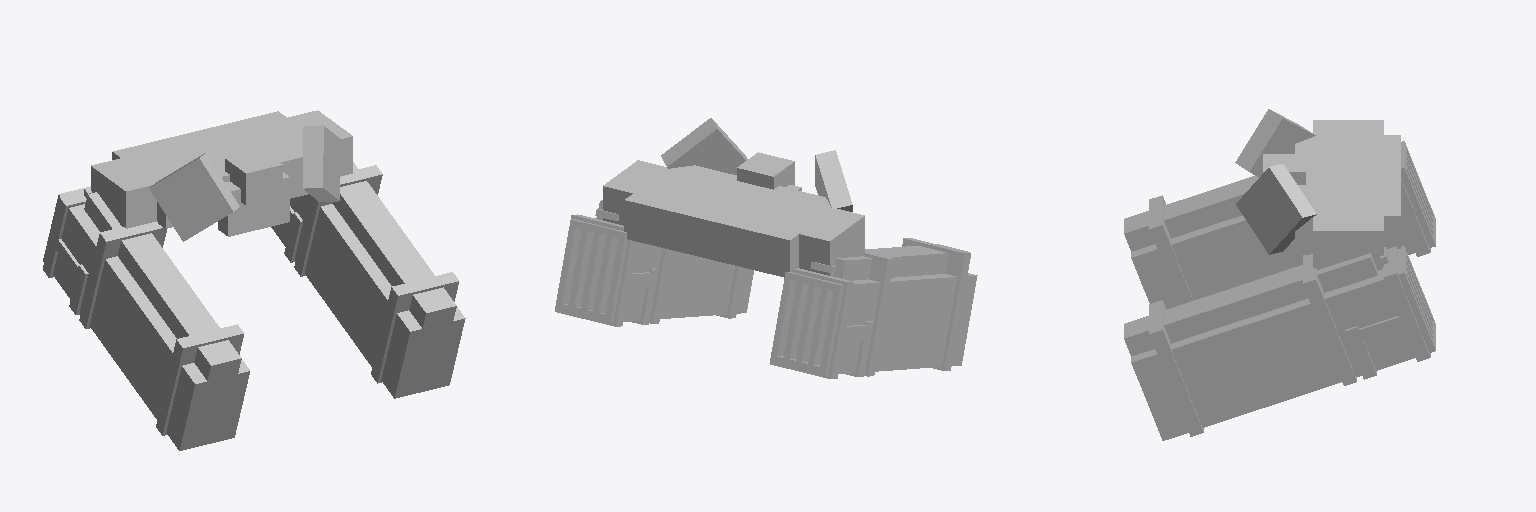
File: 3d_maneuver_gear.obj
3 renders of one model, left to right at view 1: azimuth 30°, elevation 25°; view 2: azimuth 150°, elevation 25°; view 3: azimuth 270°, elevation 25°, orthographic.
Visible parts, largest first — view 1: holster_left_panel_5, girdle, holster_left_gas_flask, holster_right_panel_5, holster_right_gas_flask, rope_coil_left, holster_right_back, holster_left_back, dart_launcher_left, holster_left_top, rope_coil_right, turbine (+14 smaller); view 2: girdle, holster_left_panel_5, holster_right_panel_5, dart_launcher_left, rope_coil_right, holster_left_gas_flask, dart_launcher_right, turbine, rope_coil_left, holster_left_top, holster_left_bottom, holster_right_bottom (+15 smaller); view 3: holster_right_panel_1, girdle, holster_right_gas_flask, holster_left_panel_1, rope_coil_right, holster_left_gas_flask, dart_launcher_right, holster_right_top, rope_coil_left, holster_right_bottom, holster_left_top, holster_right_binding_1_right (+12 smaller).
Part boxes in pixels (x1,y1,x2,y2): holster_left_panel_5: (44, 199, 190, 440); girdle: (112, 111, 308, 228); holster_left_gas_flask: (84, 192, 241, 380); holster_right_panel_5: (276, 195, 405, 387); holster_right_gas_flask: (333, 162, 456, 328); rope_coil_left: (149, 153, 239, 241); holster_right_back: (391, 314, 465, 398); holster_left_back: (176, 366, 249, 450); dart_launcher_left: (91, 158, 156, 228); holster_left_top: (58, 186, 246, 384); rope_coil_right: (303, 125, 340, 201); turbine: (225, 149, 282, 205); girdle: (624, 165, 832, 277); holster_left_panel_5: (820, 283, 972, 367); holster_right_panel_5: (605, 238, 750, 315); dart_launcher_left: (799, 209, 864, 275); rope_coil_right: (661, 118, 747, 174); holster_left_gas_flask: (833, 244, 967, 280); dart_launcher_right: (603, 160, 666, 225); turbine: (737, 152, 794, 189); rope_coil_left: (815, 150, 852, 211); holster_left_top: (784, 272, 973, 291); holster_left_bottom: (770, 355, 959, 374); holster_right_bottom: (555, 303, 744, 322); holster_right_panel_1: (1141, 277, 1433, 432); girdle: (1295, 135, 1400, 254); holster_right_gas_flask: (1124, 253, 1377, 356); holster_left_panel_1: (1141, 172, 1433, 308); rope_coil_right: (1236, 164, 1316, 254); holster_left_gas_flask: (1124, 176, 1258, 251); dart_launcher_right: (1313, 216, 1383, 270); holster_right_top: (1138, 246, 1406, 366); rope_coil_left: (1235, 109, 1315, 177); holster_right_bottom: (1167, 320, 1435, 438); holster_left_top: (1138, 141, 1406, 261); holster_right_binding_1_right: (1383, 272, 1430, 361).
Size of the model in its own units: 2.81 by 2.32 by 2.75.